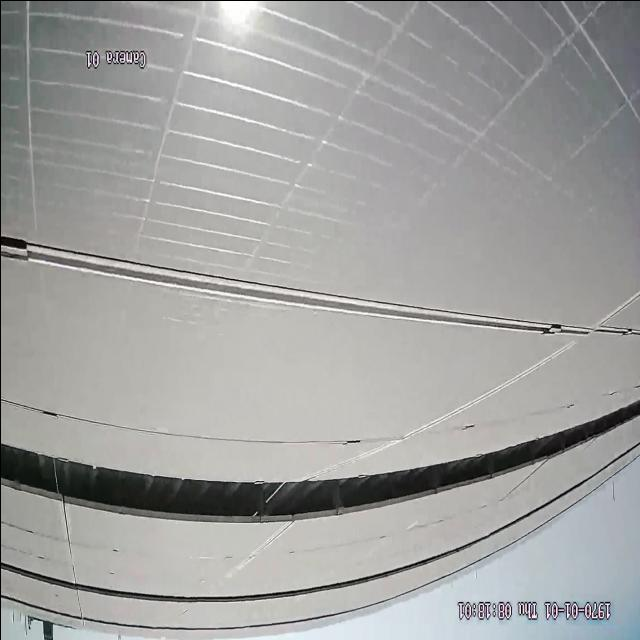interior panel: (0, 232, 639, 340), (331, 342, 580, 468)
outher panel: (2, 395, 639, 521)
